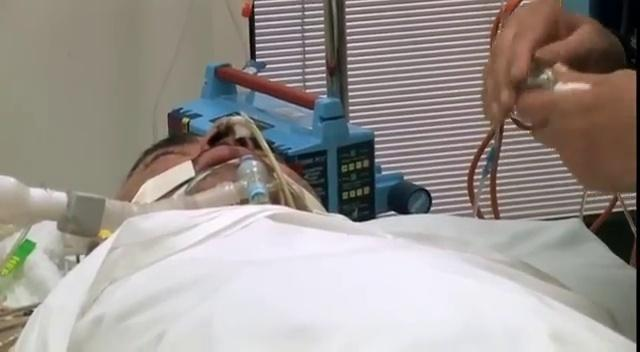patient: (112, 113, 327, 214)
